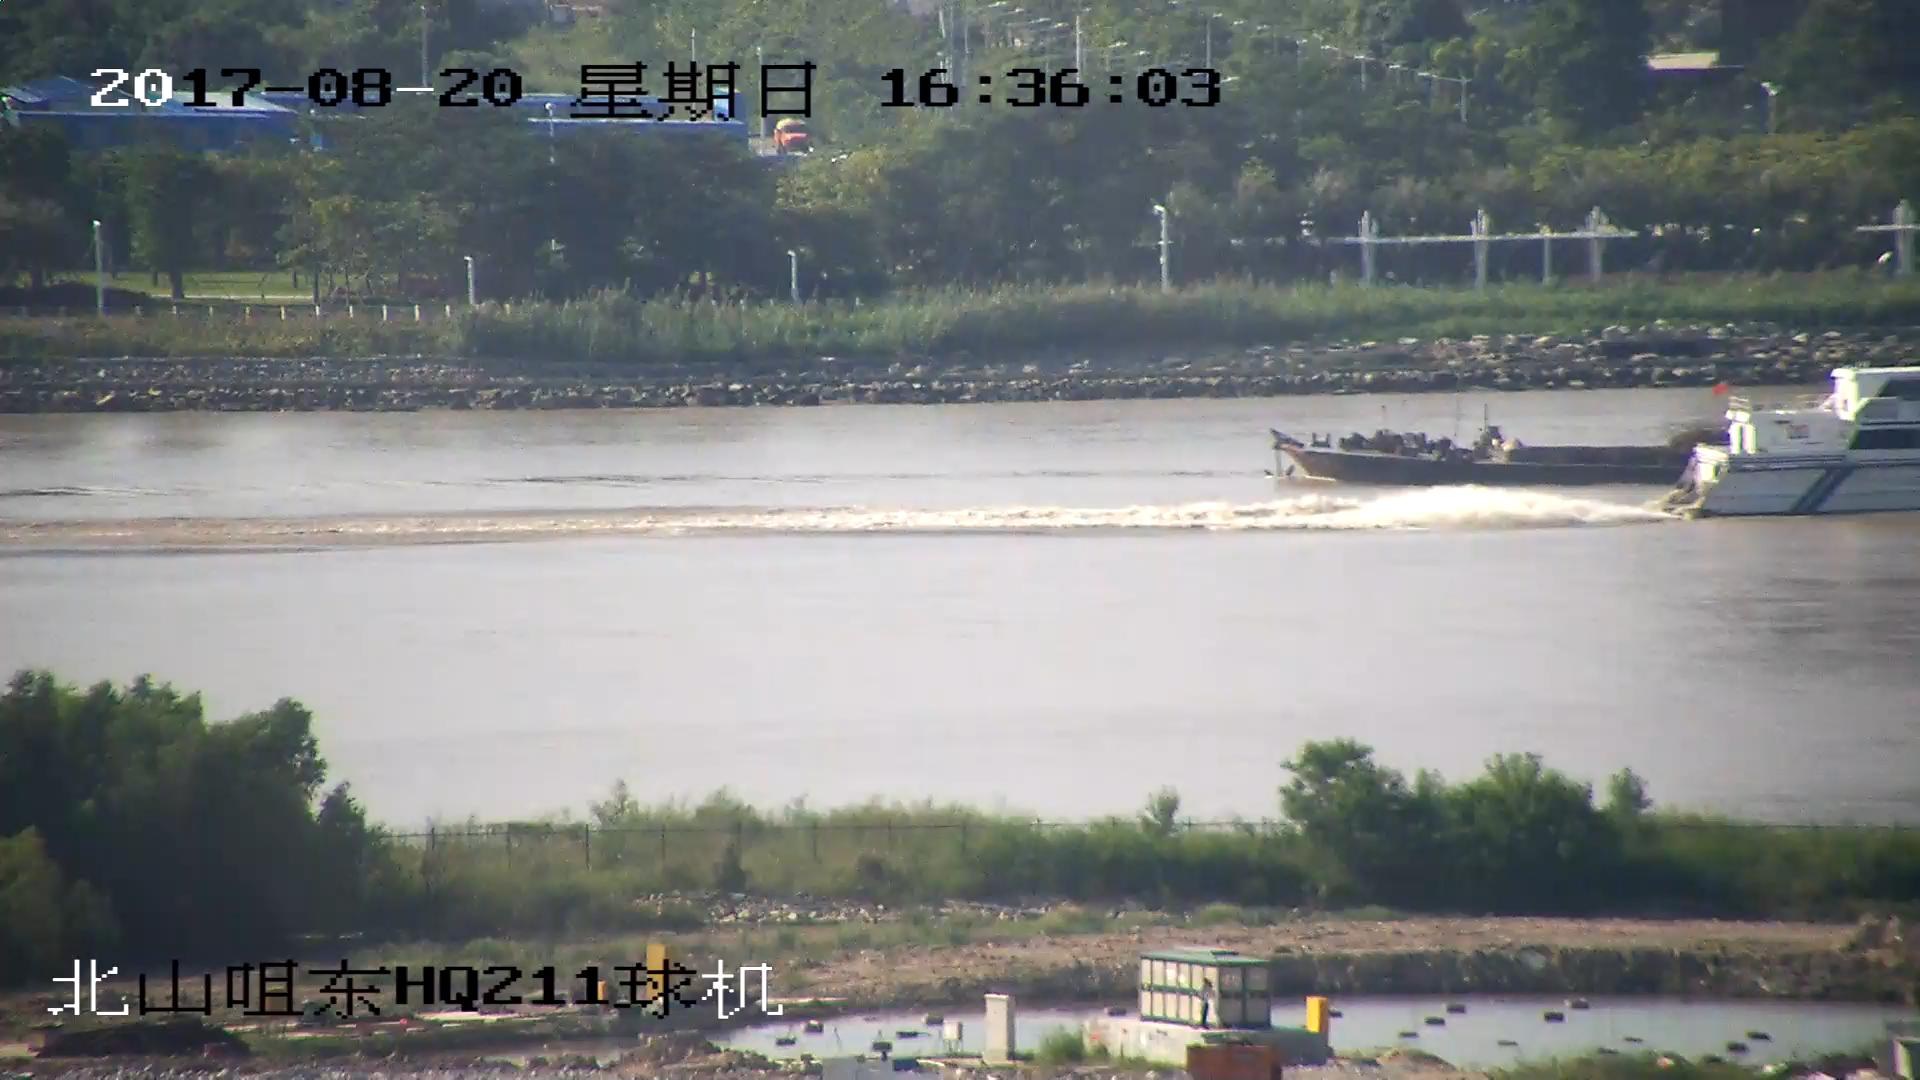ore carrier: (1270, 390, 1920, 486)
passenger ship: (1684, 369, 1920, 514)
